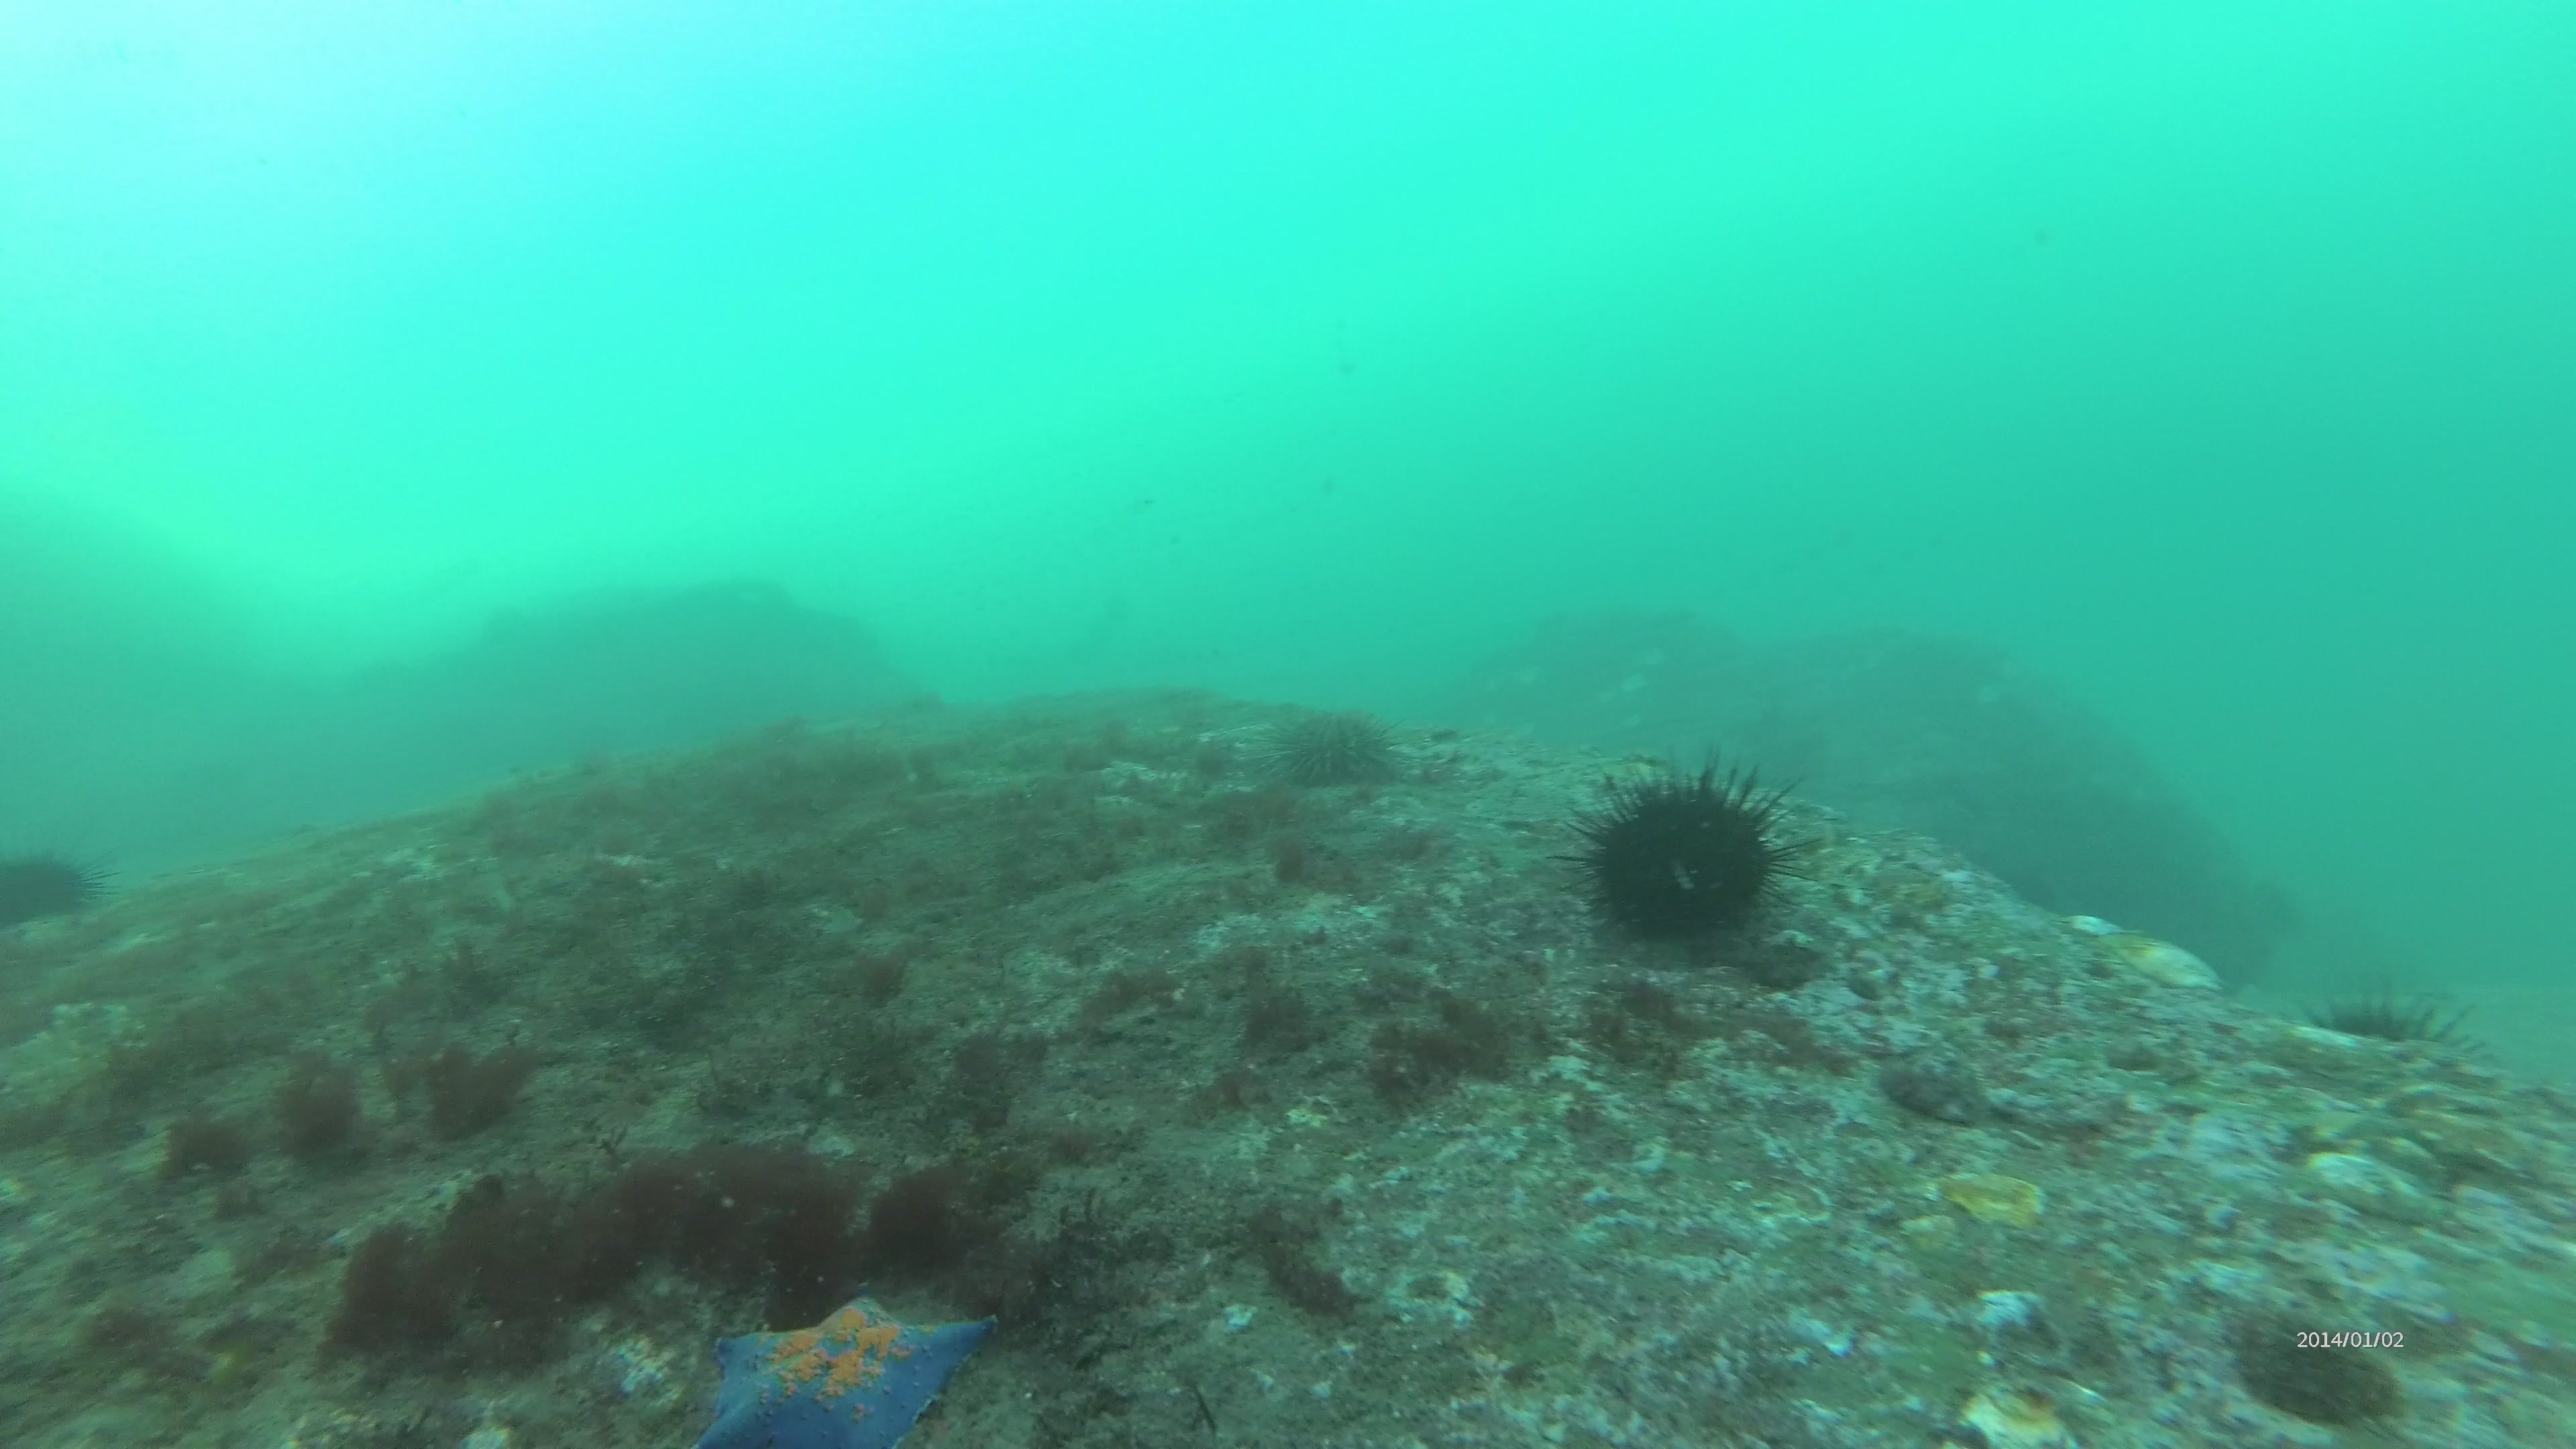echinus: (1566, 750, 1808, 957), (2304, 980, 2500, 1090), (1269, 699, 1401, 796), (2, 837, 104, 934)
starfish: (695, 1284, 1001, 1445)
